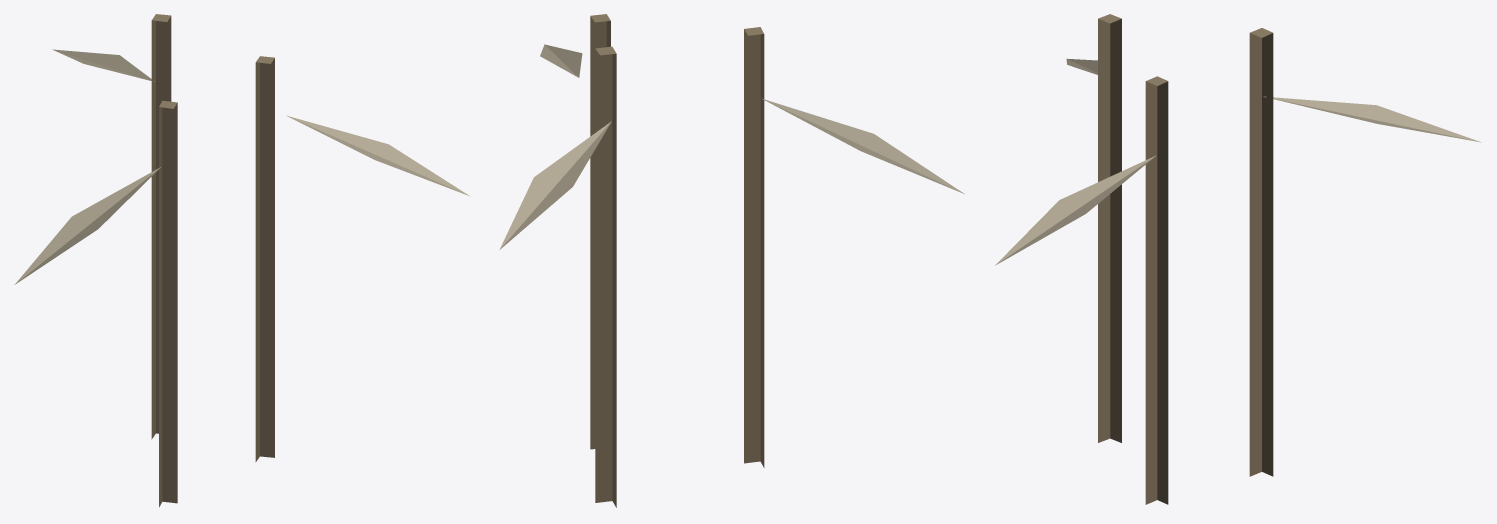
File: shu.maozhu@withered__autumn.glb
3 views of the same model, side by side, from view 1: azimuth 30°, elevation 25°; view 2: azimuth 150°, elevation 25°; view 3: azimuth 270°, elevation 25° (orthographic). The views are drawn at different scales.
Visible parts, largest first — view 1: shu.maozhu@withered__autumn; view 2: shu.maozhu@withered__autumn; view 3: shu.maozhu@withered__autumn.
Boxes of the visible parts, <box> form: shu.maozhu@withered__autumn: <box>14,14,470,507</box>; shu.maozhu@withered__autumn: <box>499,14,964,507</box>; shu.maozhu@withered__autumn: <box>995,14,1481,504</box>.
Size of the model in its own units: 3.45 by 3.27 by 3.26.
